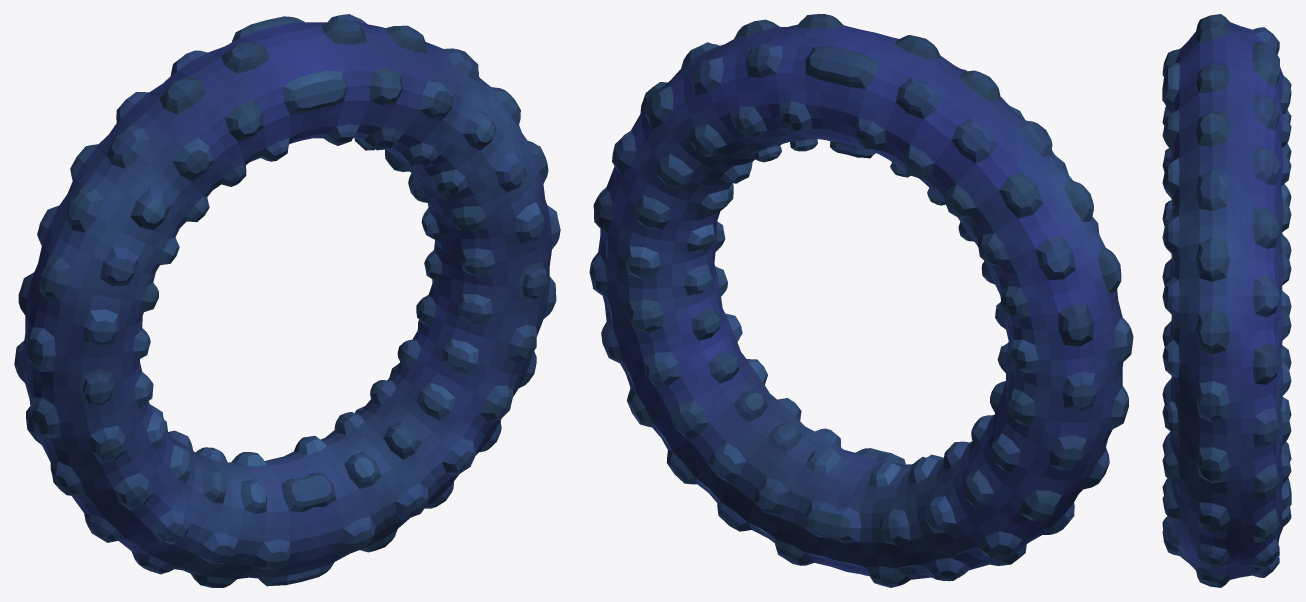
File: Helios.fbx
3 views of the same model, side by side, from view 1: azimuth 30°, elevation 25°; view 2: azimuth 150°, elevation 25°; view 3: azimuth 270°, elevation 25° (orthographic). The views are drawn at different scales.
Parts seen in each view (by area): view 1: Torus; view 2: Torus; view 3: Torus.
Boxes of the visible parts, <box> form: Torus: <box>14,14,560,587</box>; Torus: <box>589,14,1133,587</box>; Torus: <box>1162,14,1291,587</box>.
Size of the model in its own units: 257 by 255 by 57.61.
